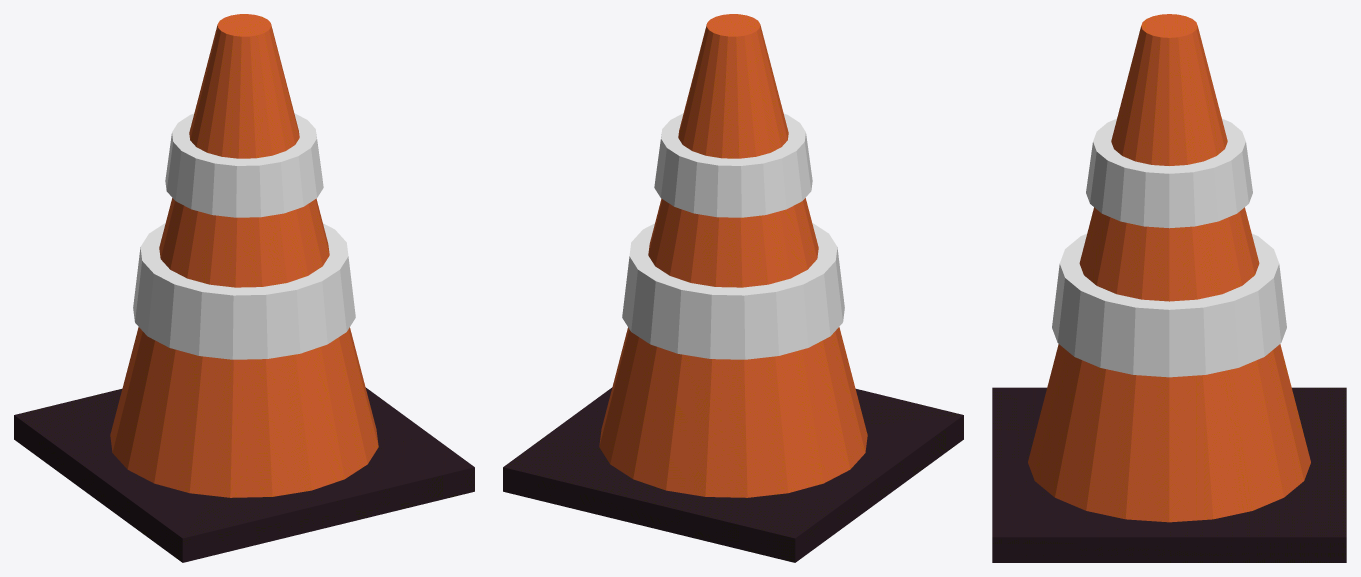
File: traffic-cone.glb
3 views of the same model, side by side, from view 1: azimuth 30°, elevation 25°; view 2: azimuth 150°, elevation 25°; view 3: azimuth 270°, elevation 25° (orthographic). The views are drawn at different scales.
Visible parts, largest first — view 1: Cube; view 2: Cube; view 3: Cube.
Boxes of the visible parts, box(x1,y1,x2,y2) form: Cube: box(14, 14, 474, 562); Cube: box(503, 14, 963, 562); Cube: box(992, 14, 1346, 562).
Bounding box in the file's own units: 0.6944 × 1 × 0.6944.
Materials: 1 (1 with a texture image).
